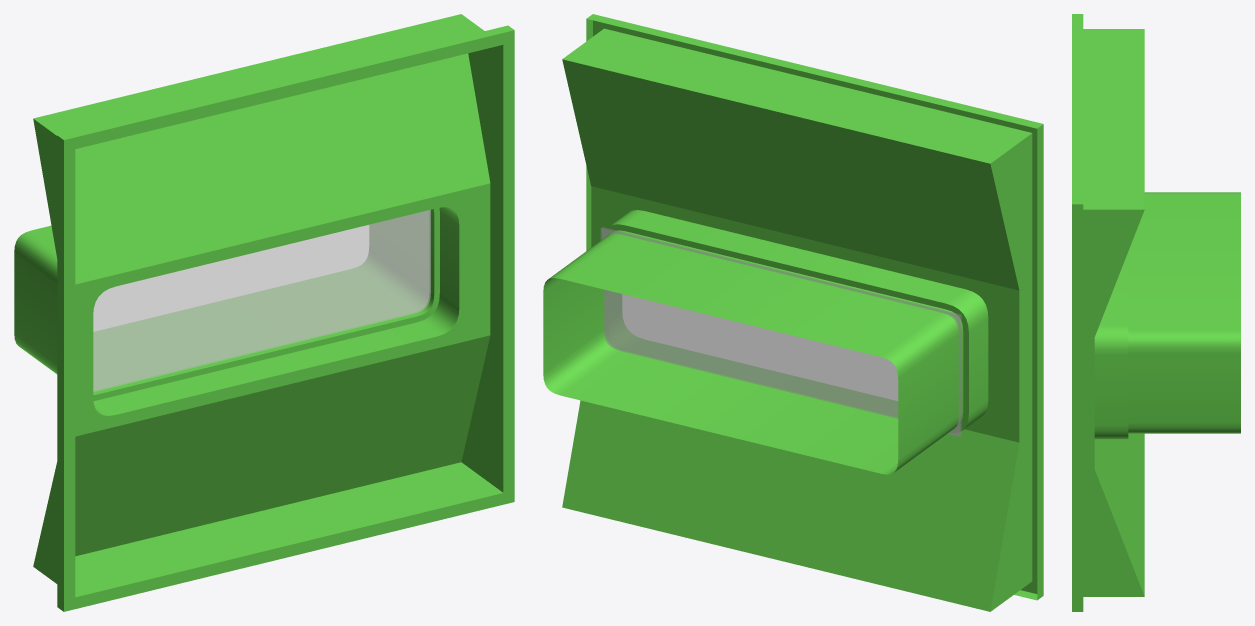
The model's file is Wall_B_4x4m_Win.FBX.
3 views of the same model, side by side, from view 1: azimuth 30°, elevation 25°; view 2: azimuth 150°, elevation 25°; view 3: azimuth 270°, elevation 25° (orthographic). The views are drawn at different scales.
Visible parts, largest first — view 1: Wall_B_4x4m_Win; view 2: Wall_B_4x4m_Win; view 3: Wall_B_4x4m_Win.
Part boxes in pixels (box(x1,y1,x2,y2)): Wall_B_4x4m_Win: box(14, 14, 514, 611); Wall_B_4x4m_Win: box(543, 14, 1043, 611); Wall_B_4x4m_Win: box(1072, 14, 1240, 611).
Bounding box in the file's own units: 400 × 400 × 150.
